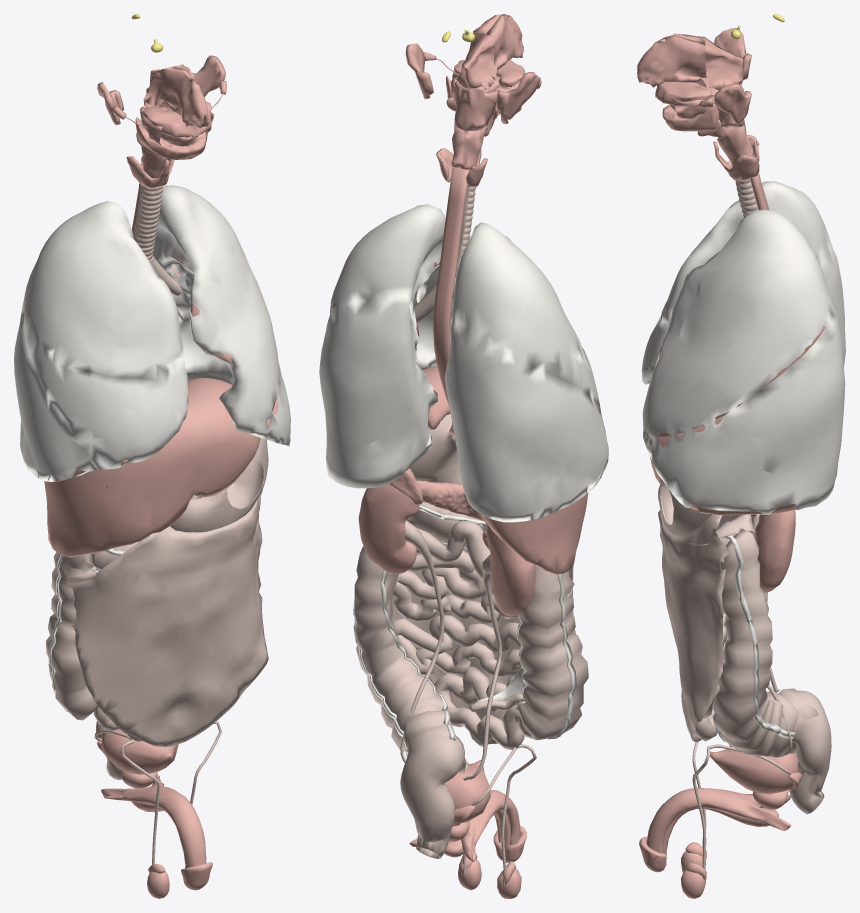
Rendered from Visceral_systems.glb.
3 renders of one model, left to right at view 1: azimuth 30°, elevation 25°; view 2: azimuth 150°, elevation 25°; view 3: azimuth 270°, elevation 25°, orthographic. The views are drawn at different scales.
Parts seen in each view (by area): view 1: Pleura, Greater omentum, Liver, Ascending colon, Corpus cavernosum of penis, Stomach, Gingiva, Mucosa of nasal cavity, Urinary bladder, Trachea, Mucosa of stomach, Parotid gland.l (+4 smaller); view 2: Pleura, Jejunum, Ascending colon, Descending colon, Sigmoid colon, Liver, Kidney.l, Oesophagus, Kidney.r, Greater omentum, Stomach, Oropharynx (+20 smaller); view 3: Pleura, Descending colon, Greater omentum, Sigmoid colon, Corpus cavernosum of penis, Mucosa of nasal cavity, Urinary bladder, Kidney.l, Gingiva, Nasopharynx, Mesocolic taenia, Stomach (+14 smaller).
Boxes of the visible parts, x1,y1,x2,y2 form: Pleura: (14,185,290,481); Greater omentum: (65,494,268,746); Liver: (44,378,260,557); Ascending colon: (46,552,98,720); Corpus cavernosum of penis: (101,775,206,868); Stomach: (170,438,268,532); Gingiva: (135,101,211,159); Mucosa of nasal cavity: (158,64,209,128); Urinary bladder: (101,729,178,774); Trachea: (133,185,162,261); Mucosa of stomach: (227,460,263,509); Parotid gland.l: (191,55,225,97); Pleura: (319,204,608,522); Jejunum: (392,528,533,749); Ascending colon: (517,564,588,740); Descending colon: (354,546,466,774); Sigmoid colon: (400,728,464,858); Liver: (422,366,588,574); Kidney.l: (358,484,419,574); Oesophagus: (433,166,469,438); Kidney.r: (486,524,535,616); Greater omentum: (391,544,575,744); Stomach: (410,414,461,483); Oropharynx: (451,70,519,130); Pleura: (641,181,845,514); Descending colon: (714,528,818,757); Greater omentum: (658,510,728,742); Sigmoid colon: (789,690,831,814); Corpus cavernosum of penis: (646,788,791,853); Mucosa of nasal cavity: (637,33,706,87); Urinary bladder: (710,749,798,794); Kidney.l: (755,509,795,592); Gingiva: (655,82,718,131); Nasopharynx: (705,37,743,89); Mesocolic taenia: (722,535,795,738); Stomach: (658,484,739,536).
Bounding box in the file's own units: 0.2641 × 0.8932 × 0.1934.
